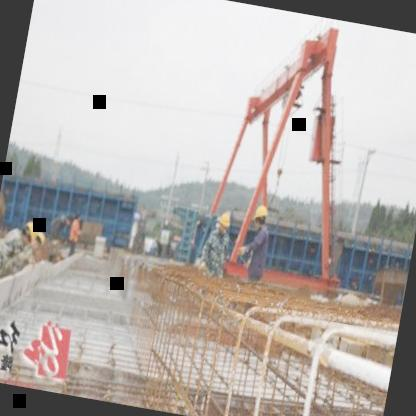helmet: (14, 215, 40, 246), (250, 199, 273, 232), (214, 208, 236, 239), (28, 227, 46, 256)
